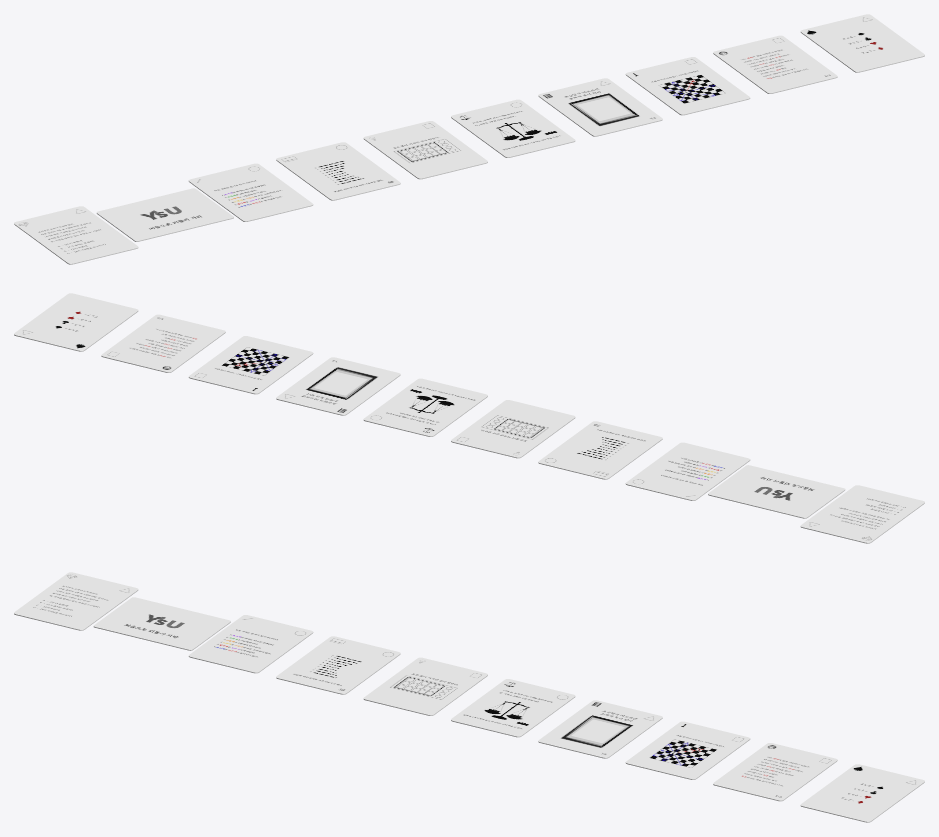
File: HintPaper.fbx
3 renders of one model, top to bottom at view 1: azimuth 30°, elevation 25°; view 2: azimuth 150°, elevation 25°; view 3: azimuth 330°, elevation 25°, orthographic.
Parts seen in each view (by area): view 1: Plane008, Object001, Object010, Plane003, Object008, Object004, Plane007, Object009, Object005, Object006; view 2: Plane008, Object001, Object010, Plane003, Object008, Object004, Plane007, Object009, Object005, Object006; view 3: Plane008, Object001, Object010, Plane003, Object008, Object004, Plane007, Object009, Object005, Object006.
Part boxes in pixels (x1=…): Plane008: x1=96, y1=188, x2=233, y2=241; Object001: x1=14, y1=206, x2=138, y2=264; Object010: x1=800, y1=14, x2=924, y2=72; Plane003: x1=188, y1=163, x2=313, y2=221; Object008: x1=625, y1=57, x2=750, y2=115; Object004: x1=276, y1=142, x2=400, y2=200; Plane007: x1=538, y1=78, x2=662, y2=136; Object009: x1=713, y1=35, x2=837, y2=93; Object005: x1=363, y1=121, x2=487, y2=179; Object006: x1=451, y1=99, x2=575, y2=157; Plane008: x1=708, y1=465, x2=845, y2=518; Object001: x1=800, y1=485, x2=924, y2=543; Object010: x1=14, y1=293, x2=138, y2=351; Plane003: x1=625, y1=442, x2=750, y2=500; Object008: x1=188, y1=336, x2=313, y2=394; Object004: x1=538, y1=421, x2=662, y2=479; Plane007: x1=276, y1=357, x2=400, y2=415; Object009: x1=101, y1=314, x2=225, y2=372; Object005: x1=451, y1=400, x2=575, y2=458; Object006: x1=363, y1=378, x2=487, y2=436; Plane008: x1=93, y1=597, x2=230, y2=650; Object001: x1=14, y1=572, x2=138, y2=630; Object010: x1=800, y1=764, x2=924, y2=822; Plane003: x1=188, y1=615, x2=313, y2=673; Object008: x1=625, y1=721, x2=750, y2=779; Object004: x1=276, y1=636, x2=400, y2=694; Plane007: x1=538, y1=700, x2=662, y2=758; Object009: x1=713, y1=743, x2=837, y2=801; Object005: x1=363, y1=657, x2=487, y2=715; Object006: x1=451, y1=679, x2=575, y2=737.
Size of the model in its own units: 1071 by 1 by 124.
Materials: 12 (12 with a texture image).
